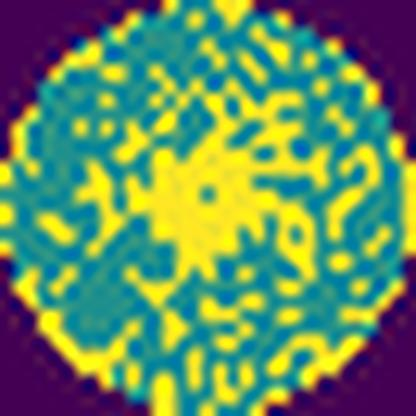Center: (121, 87, 328, 313)
